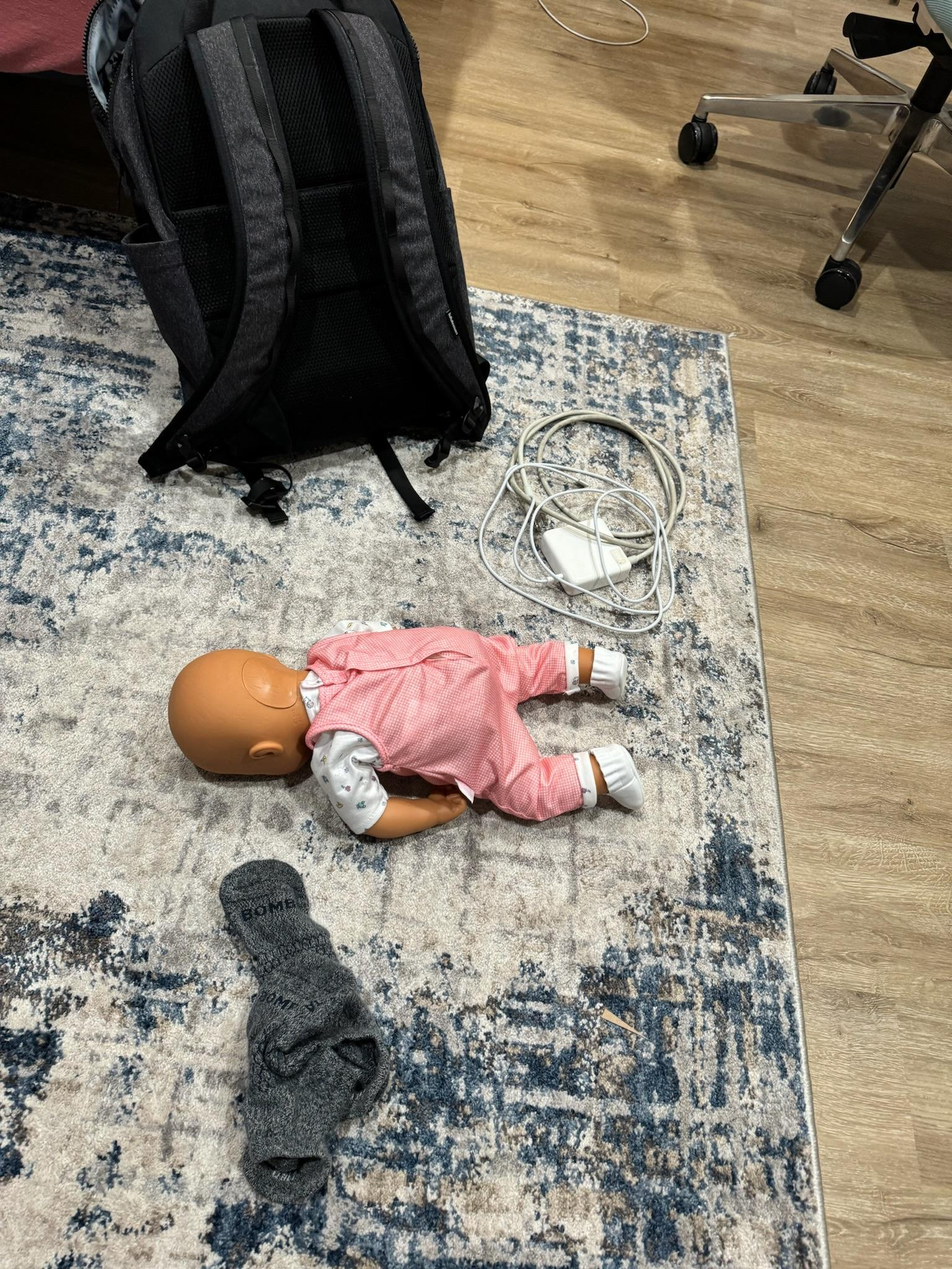baby: (165, 624, 638, 863)
